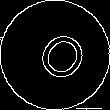O_SW: (23, 22, 87, 88)
